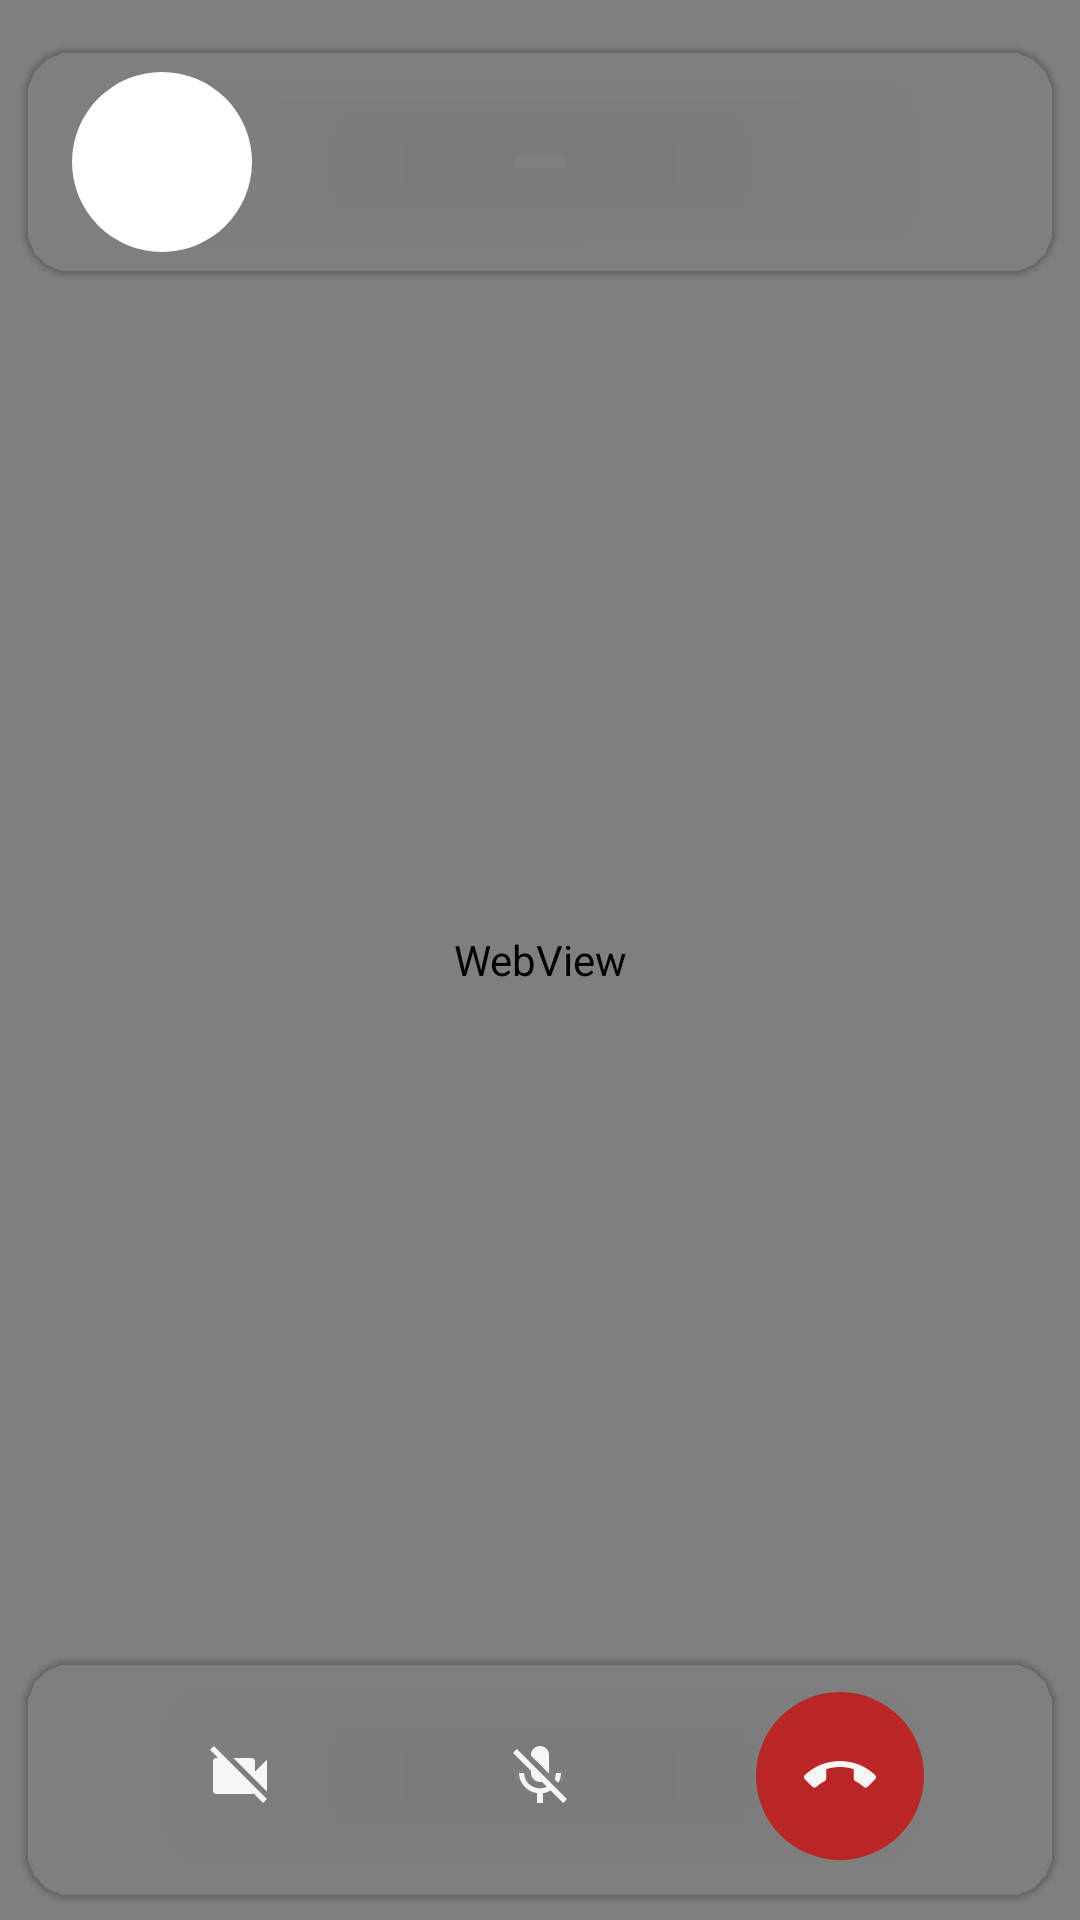

Named icons in this screenshot (1080px×1920px) and their centers, [x,y]:
call end: [840,1776]
mic off: [540,1774]
videocam off: [238,1774]
